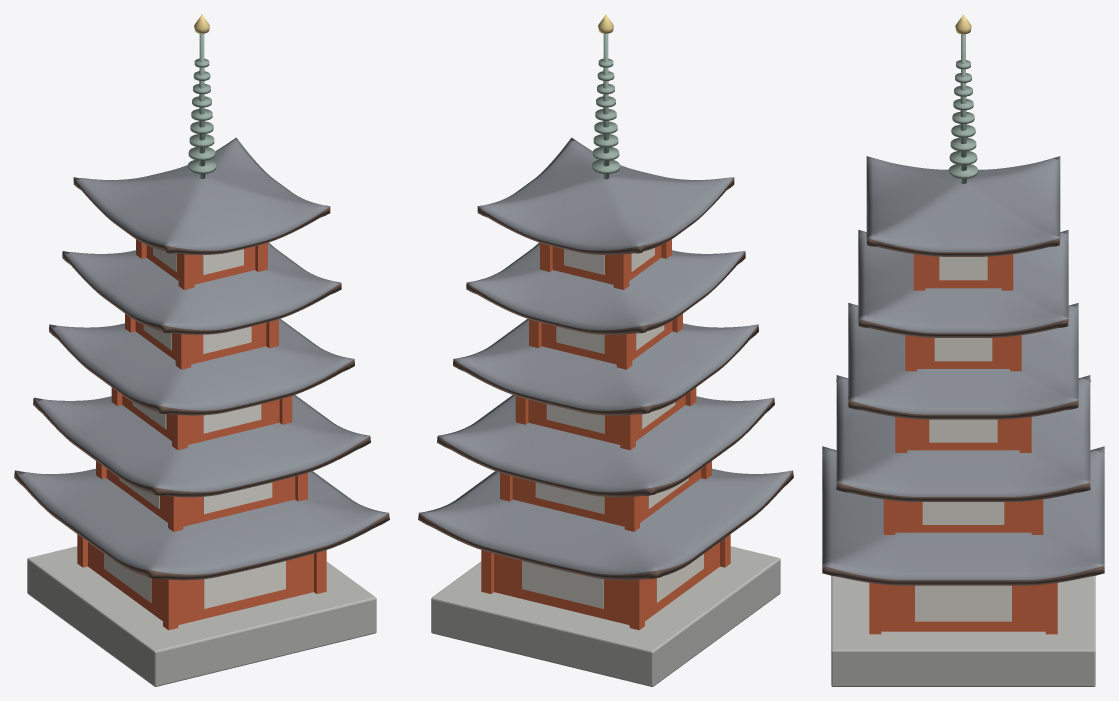
Rendered from pagoda.glb.
The picture shows the model from 3 angles, left to right: view 1: azimuth 30°, elevation 25°; view 2: azimuth 150°, elevation 25°; view 3: azimuth 270°, elevation 25°; orthographic projection. The views are drawn at different scales.
Parts seen in each view (by area): view 1: pagoda; view 2: pagoda; view 3: pagoda.
Boxes of the visible parts, left/top/right/bottom form: pagoda: left=14, top=14, right=389, bottom=686; pagoda: left=418, top=14, right=793, bottom=686; pagoda: left=822, top=14, right=1104, bottom=686.
Size of the model in its own units: 9.66 by 23.2 by 9.62.
